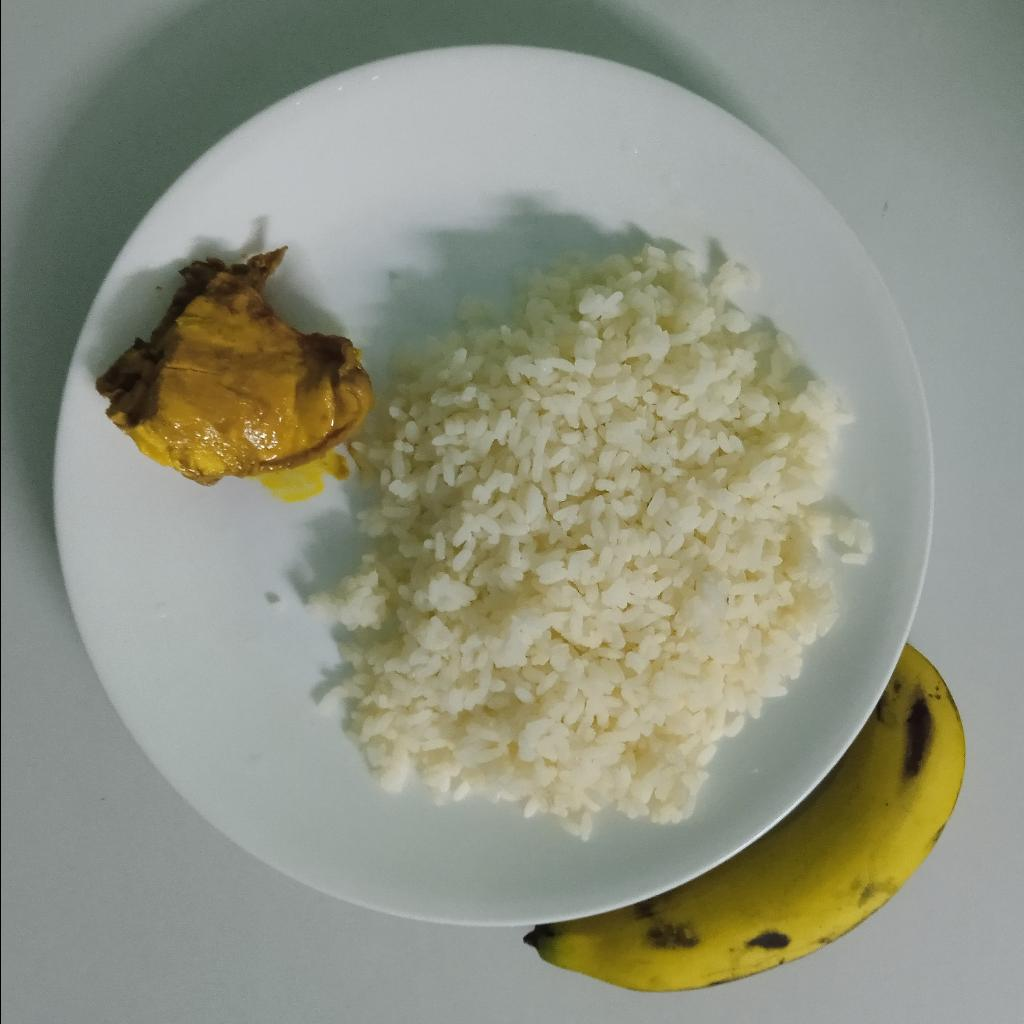banana: (524, 644, 963, 994)
chicken: (94, 245, 372, 490)
rice: (304, 246, 871, 839)
